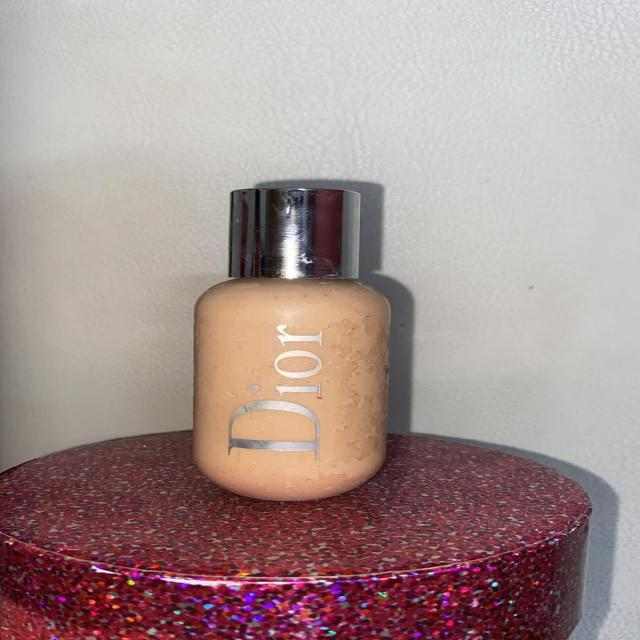foundation: (167, 172, 443, 513)
